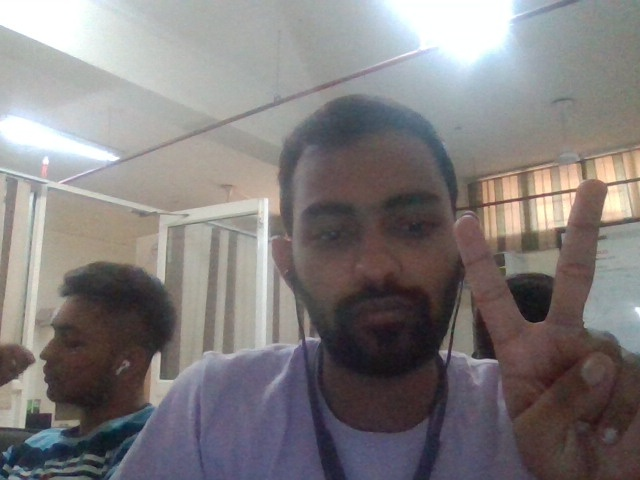ThankYou: (454, 179, 640, 480)
